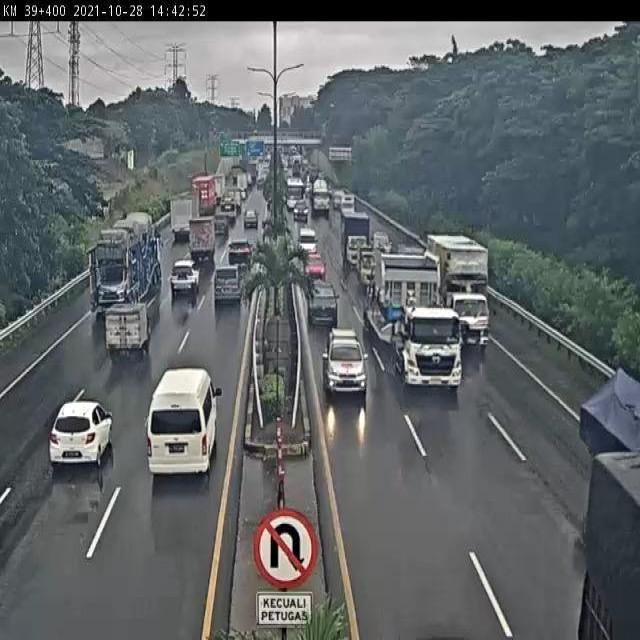car: (42, 402, 114, 470), (323, 327, 368, 393), (306, 275, 339, 327), (165, 262, 196, 298), (212, 270, 238, 306), (225, 240, 253, 268), (304, 251, 327, 279)
truck: (364, 236, 462, 389), (144, 364, 227, 481), (83, 215, 159, 321), (428, 236, 492, 352), (96, 311, 145, 364), (340, 210, 373, 266), (186, 220, 215, 267), (357, 243, 376, 288)
